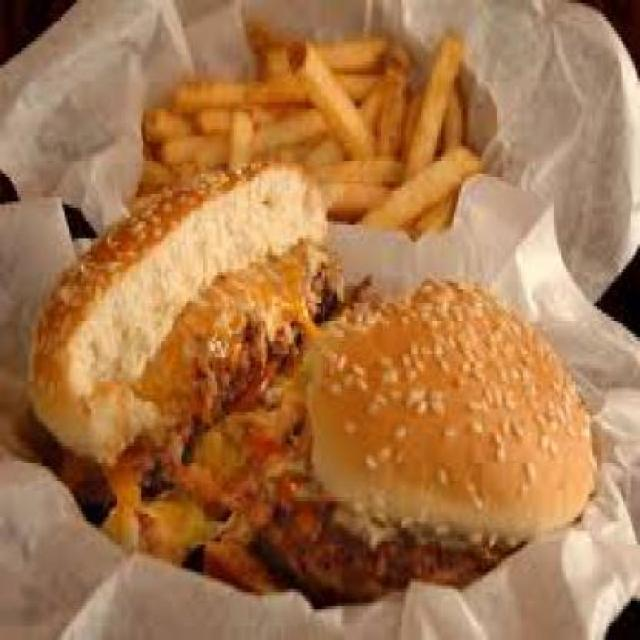french fries: (126, 13, 485, 232)
hamburger: (41, 157, 594, 606)
